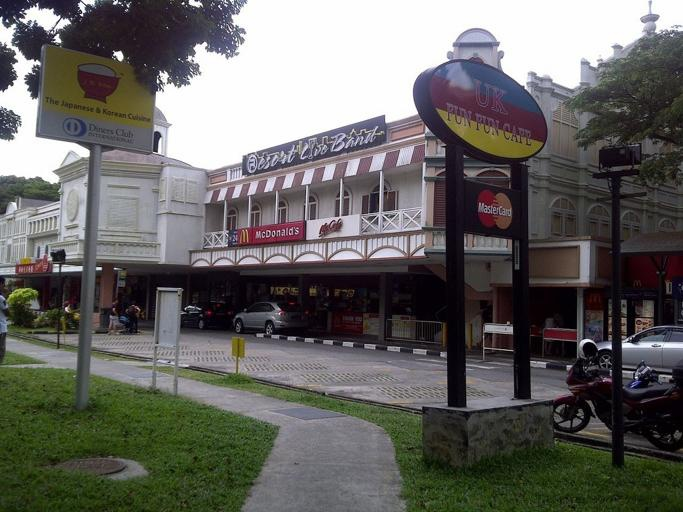non-vehicle: (549, 357, 681, 452), (623, 360, 661, 388)
